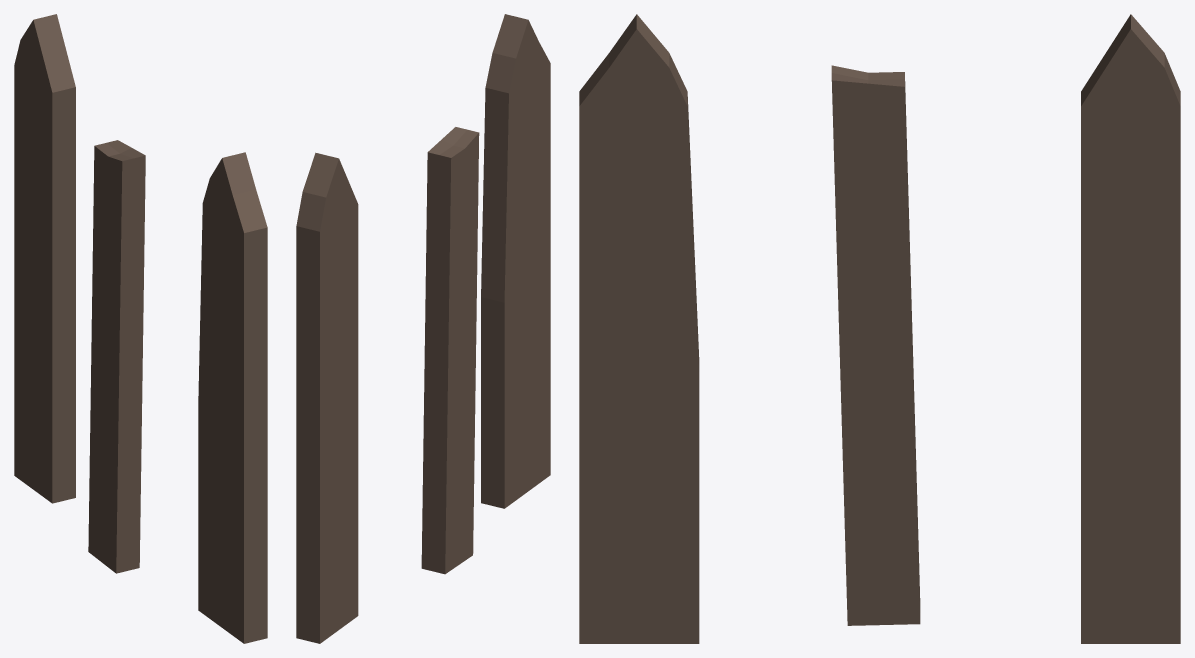
Rendered from Fence3.fbx.
3 renders of one model, left to right at view 1: azimuth 30°, elevation 25°; view 2: azimuth 150°, elevation 25°; view 3: azimuth 270°, elevation 25°, orthographic. The views are drawn at different scales.
Visible parts, largest first — view 1: Cube.001, Cube.002, Cube.003; view 2: Cube.001, Cube.002, Cube.003; view 3: Cube.001, Cube.002, Cube.003.
Part boxes in pixels (x1,y1,x2,y2): Cube.001: [198, 152, 267, 643]; Cube.002: [14, 14, 75, 503]; Cube.003: [88, 140, 145, 573]; Cube.001: [481, 14, 550, 508]; Cube.002: [296, 152, 358, 643]; Cube.003: [421, 127, 479, 574]; Cube.001: [579, 14, 699, 643]; Cube.002: [1081, 14, 1180, 643]; Cube.003: [831, 65, 920, 625].
Bounding box in the file's own units: 65.98 × 607 × 537.
